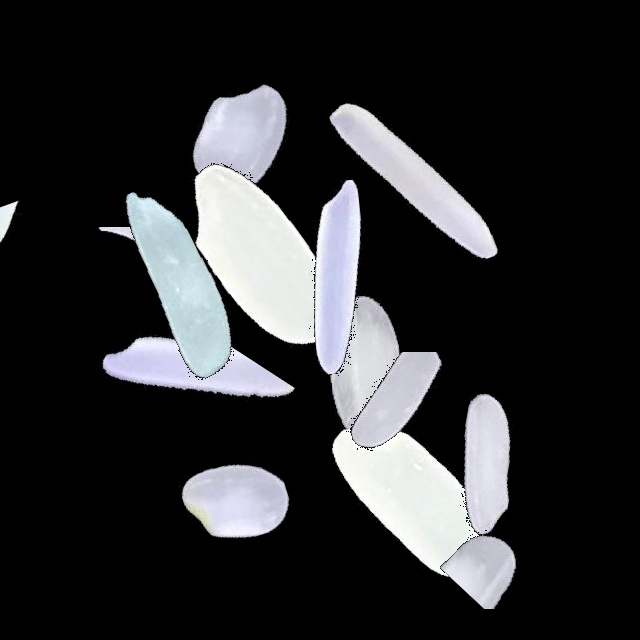Broken: (53, 328, 303, 488), (301, 352, 551, 507), (383, 485, 633, 609), (30, 227, 280, 324), (0, 111, 82, 361), (308, 282, 558, 360)
Full: (113, 377, 363, 627), (239, 241, 489, 491), (285, 375, 535, 625), (118, 13, 368, 263), (134, 130, 384, 380), (289, 58, 539, 308), (55, 153, 305, 403), (360, 338, 610, 588), (211, 153, 461, 403)
